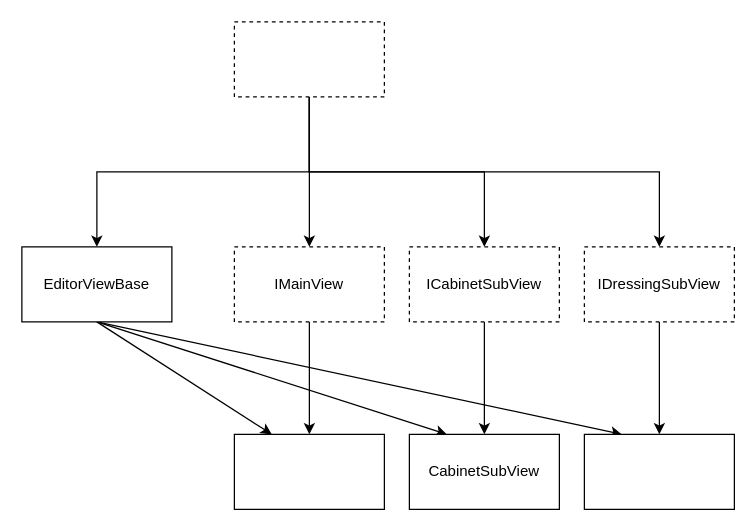
The diagram is 756 pixels wide and 531 high, and some of its shapes have lost their labels. The shapes that lost their labels are listed below. From the top down, each one's centre as x and y in pixels, then its label:
the point at 308,59: IEditorView
the point at 308,471: MainView
the point at 658,471: DressingSubView
